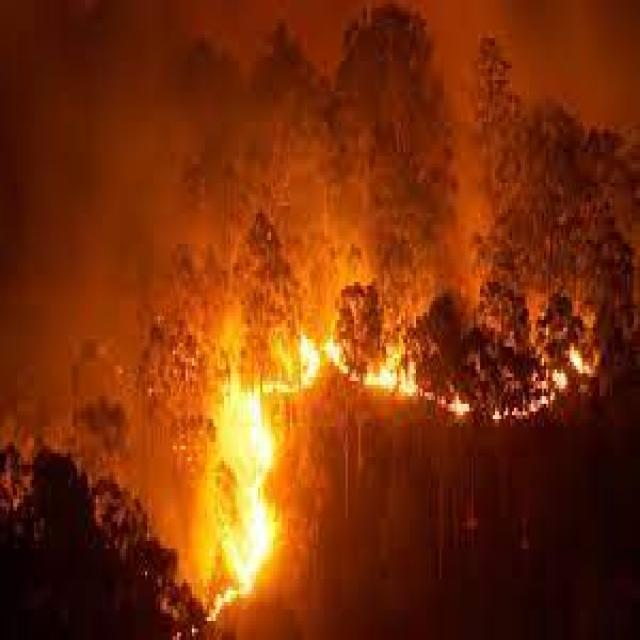Fire: (202, 424, 282, 564), (295, 322, 333, 390)
